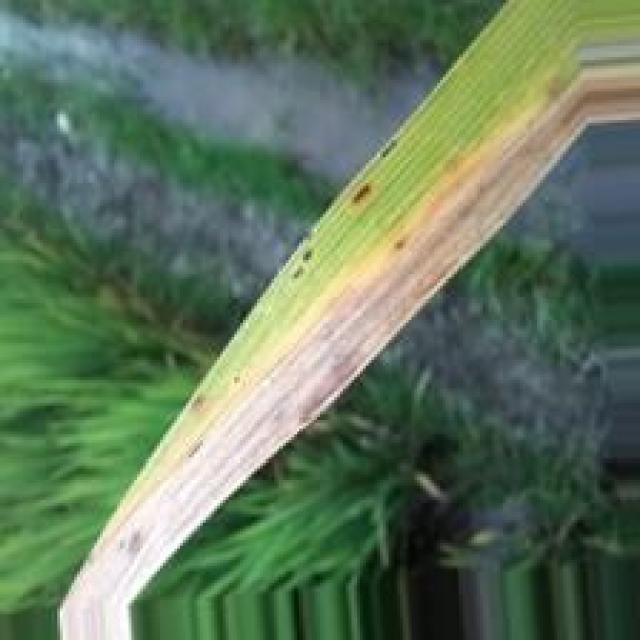Leaf_Scald: (90, 71, 588, 609)
